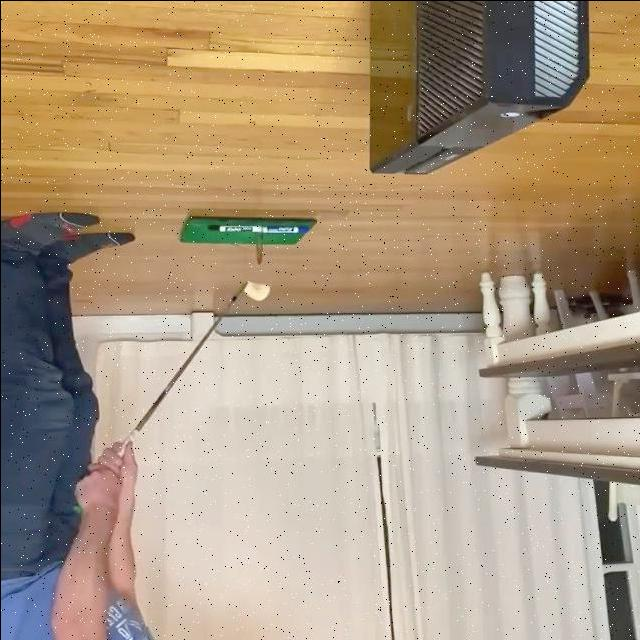golf club-handle: (116, 280, 270, 458)
golf club-head: (242, 280, 269, 301)
